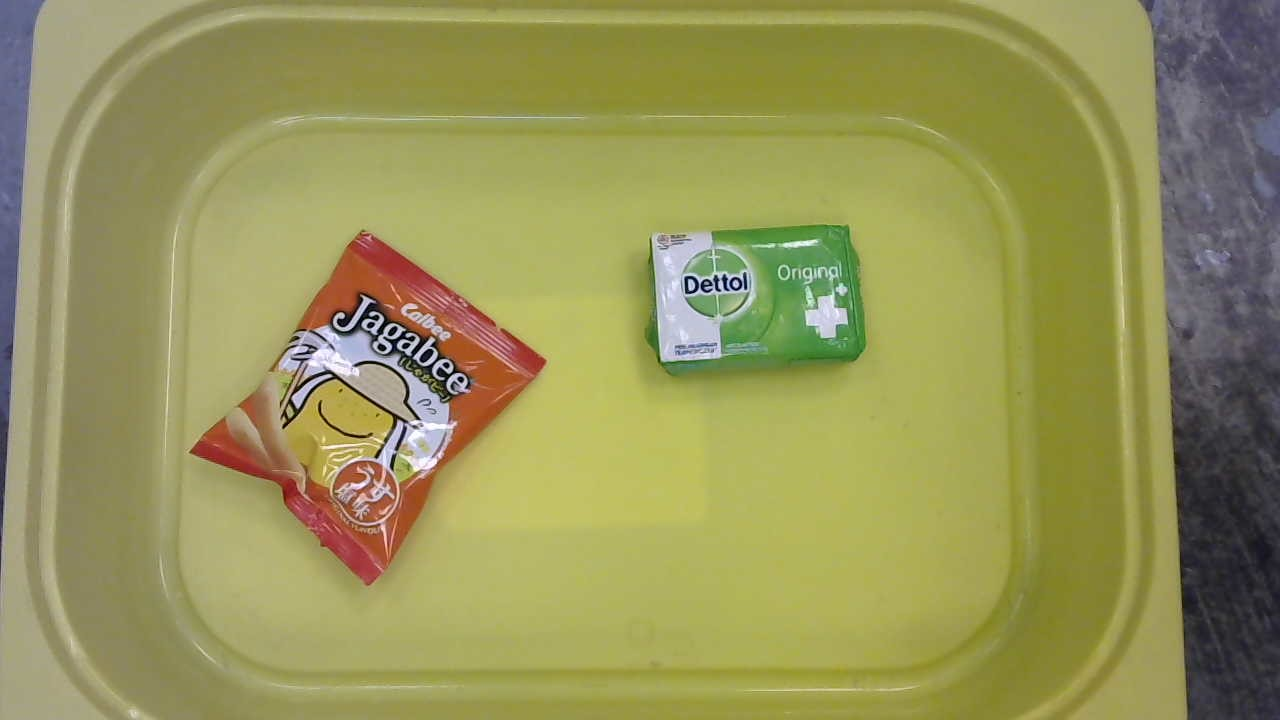Dettol: (643, 223, 871, 379)
JagabeeFarmer: (187, 226, 551, 596)
